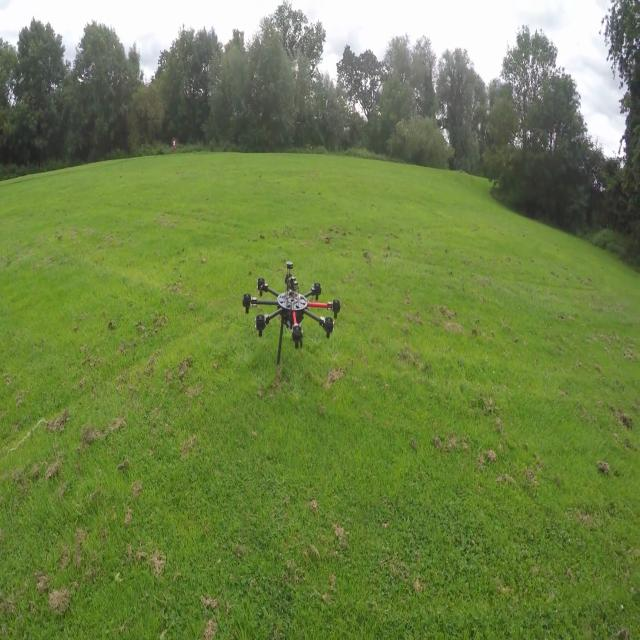drone: (243, 245, 354, 375)
